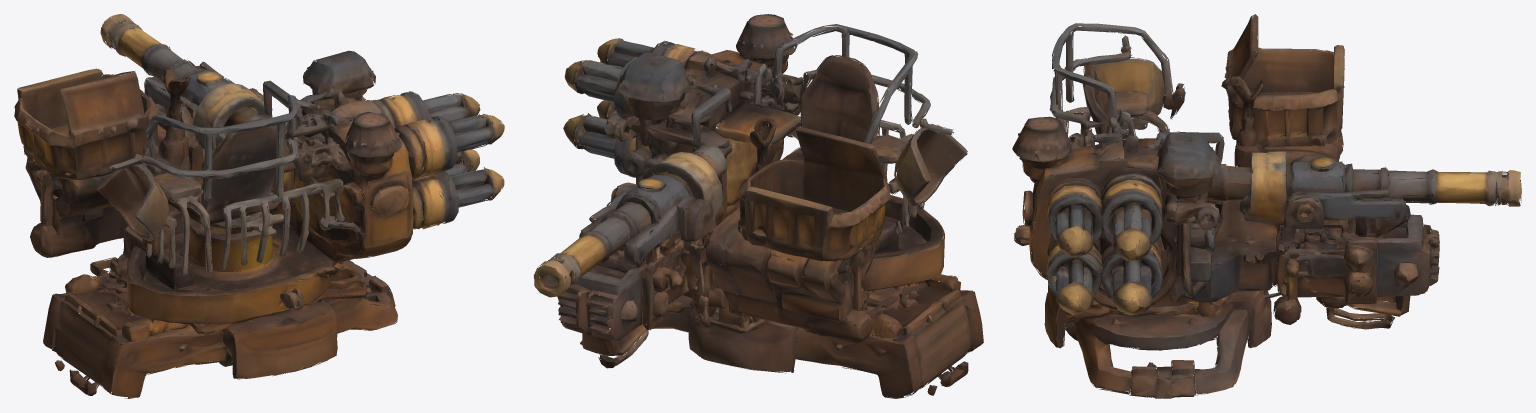
File: cf_thunder_mule.glb
3 views of the same model, side by side, from view 1: azimuth 30°, elevation 25°; view 2: azimuth 150°, elevation 25°; view 3: azimuth 270°, elevation 25° (orthographic). The views are drawn at different scales.
Visible parts, largest first — view 1: head, gun; view 2: head, gun; view 3: head, gun.
Part boxes in pixels (x1=…): head: x1=14, y1=50, x2=504, y2=398; gun: x1=100, y1=14, x2=272, y2=169; head: x1=557, y1=14, x2=983, y2=398; gun: x1=533, y1=152, x2=717, y2=297; head: x1=1012, y1=14, x2=1439, y2=398; gun: x1=1248, y1=152, x2=1521, y2=251.
Size of the model in its own units: 3.3 by 2.2 by 3.65.
Materials: 1 (1 with a texture image).
